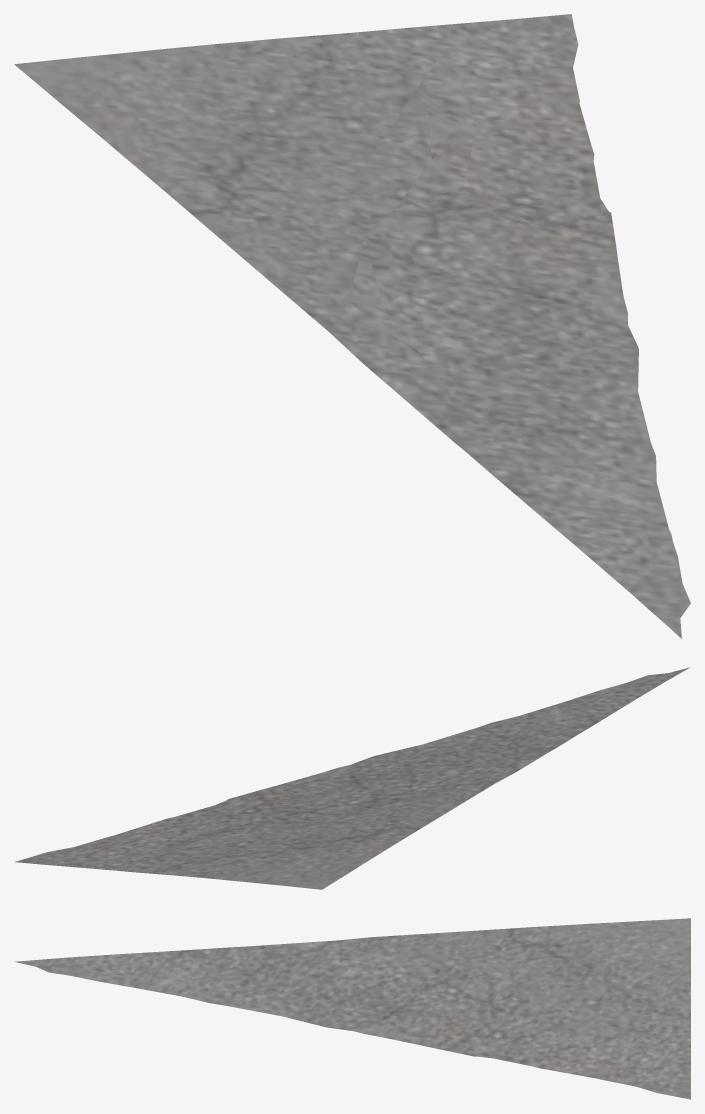
3 renders of one model, top to bottom at view 1: azimuth 30°, elevation 25°; view 2: azimuth 150°, elevation 25°; view 3: azimuth 270°, elevation 25°, orthographic. The views are drawn at different scales.
Size of the model in its own units: 1.37 by 0.2019 by 2.85.
1 material, 1 textured.
